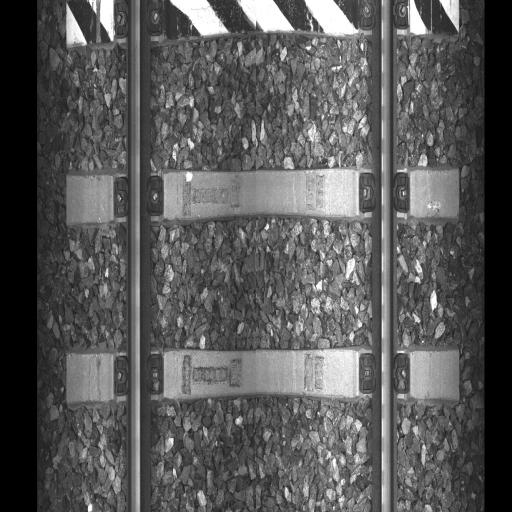clip: (114, 354, 164, 398), (358, 354, 410, 395), (358, 174, 409, 214), (115, 177, 163, 214), (113, 5, 161, 33), (358, 5, 409, 31)
sleeper: (67, 351, 458, 402), (68, 172, 458, 220), (66, 3, 458, 37)
